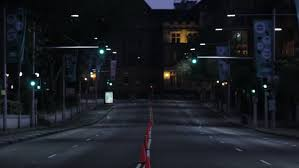strada: (56, 95, 233, 168)
